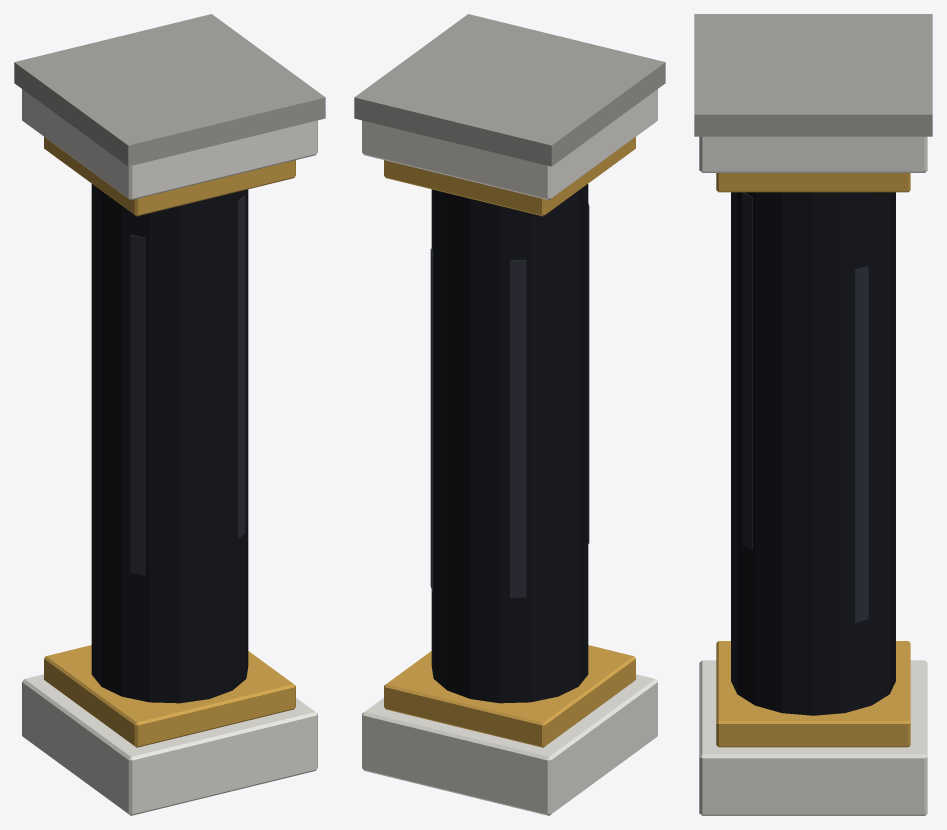
Rendered from pillar_marble.glb.
The picture shows the model from 3 angles, left to right: view 1: azimuth 30°, elevation 25°; view 2: azimuth 150°, elevation 25°; view 3: azimuth 270°, elevation 25°; orthographic projection. The views are drawn at different scales.
Parts seen in each view (by area): view 1: pillar_marble; view 2: pillar_marble; view 3: pillar_marble.
Part boxes in pixels (x1,y1,x2,y2): pillar_marble: [14, 14, 325, 815]; pillar_marble: [354, 14, 665, 815]; pillar_marble: [694, 14, 932, 815].
Bounding box in the file's own units: 0.98 × 3.2 × 0.98.
